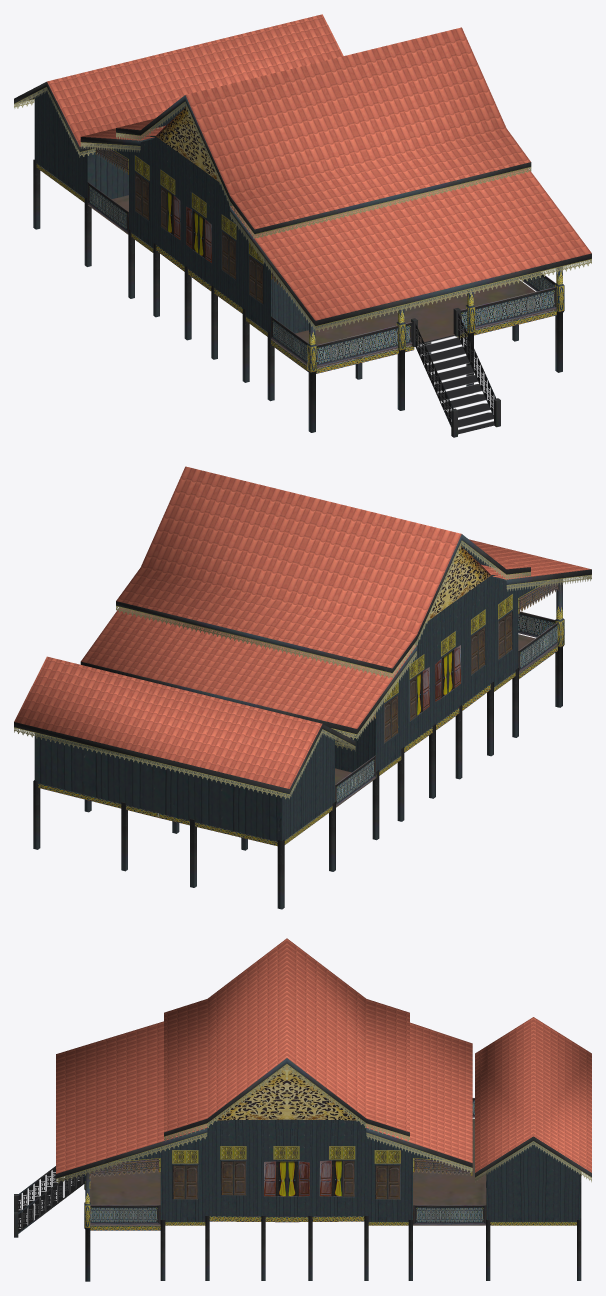
Rendered from rumah_adat_tradisional_jambi_kajang_lako.glb.
3 views of the same model, one above another, from view 1: azimuth 30°, elevation 25°; view 2: azimuth 150°, elevation 25°; view 3: azimuth 270°, elevation 25° (orthographic). The views are drawn at different scales.
Visible parts, largest first — view 1: Plane.005, Plane.006, Plane.004, Plane.021, Plane.022, Cube.014, Cube.005, Cube.006, Plane.011, Cube.008, Cube.007, Plane.012 (+3 smaller); view 2: Plane.005, Plane.021, Plane.006, Plane.004, Plane.022, Cube.017, Cube.016, Plane.011, Cube.008, Cube.007, Cube.006, Cube.014 (+4 smaller); view 3: Plane.004, Plane.005, Plane.006, Plane.021, Plane.022, Plane.011, Plane.012, Plane.009, Plane.010, Plane.013, Cube.006, Cube.014 (+2 smaller).
Boxes of the visible parts, bbox=[...] form: Plane.005: bbox=[116, 27, 531, 238]; Plane.006: bbox=[80, 125, 591, 331]; Plane.004: bbox=[87, 106, 556, 434]; Plane.021: bbox=[14, 14, 343, 157]; Plane.022: bbox=[34, 88, 128, 202]; Cube.014: bbox=[307, 267, 564, 432]; Cube.005: bbox=[396, 288, 475, 410]; Cube.006: bbox=[128, 229, 518, 401]; Plane.011: bbox=[186, 207, 211, 262]; Cube.008: bbox=[184, 266, 217, 359]; Cube.007: bbox=[153, 243, 249, 382]; Plane.012: bbox=[160, 185, 180, 239]; Plane.005: bbox=[116, 466, 530, 678]; Plane.021: bbox=[14, 656, 355, 799]; Plane.006: bbox=[80, 539, 591, 740]; Plane.004: bbox=[335, 546, 558, 807]; Plane.022: bbox=[34, 730, 334, 846]; Cube.017: bbox=[121, 802, 247, 887]; Cube.016: bbox=[33, 780, 284, 909]; Plane.011: bbox=[435, 645, 460, 701]; Cube.008: bbox=[429, 705, 462, 798]; Cube.007: bbox=[397, 682, 493, 821]; Cube.006: bbox=[372, 668, 518, 840]; Cube.014: bbox=[554, 579, 564, 707]; Plane.004: bbox=[18, 1065, 486, 1233]; Plane.005: bbox=[164, 938, 409, 1141]; Plane.006: bbox=[56, 1021, 472, 1183]; Plane.021: bbox=[475, 1017, 591, 1182]; Plane.022: bbox=[486, 1141, 580, 1225]; Plane.011: bbox=[264, 1161, 309, 1196]; Plane.012: bbox=[319, 1160, 354, 1196]; Plane.009: bbox=[221, 1160, 246, 1195]; Plane.010: bbox=[172, 1164, 198, 1199]; Plane.013: bbox=[375, 1164, 400, 1199]; Cube.006: bbox=[160, 1220, 412, 1280]; Cube.014: bbox=[84, 1169, 90, 1281].
Bounding box in the file's own units: 3.07 × 2.74 × 6.26.
1 material, 1 textured.
